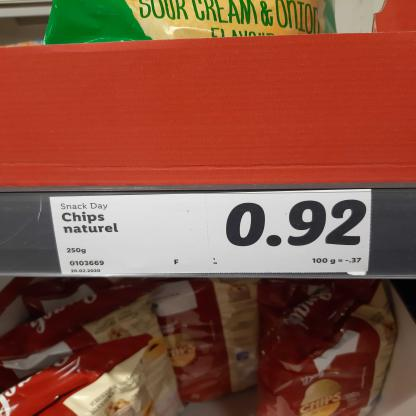prtg: (50, 190, 373, 276)
